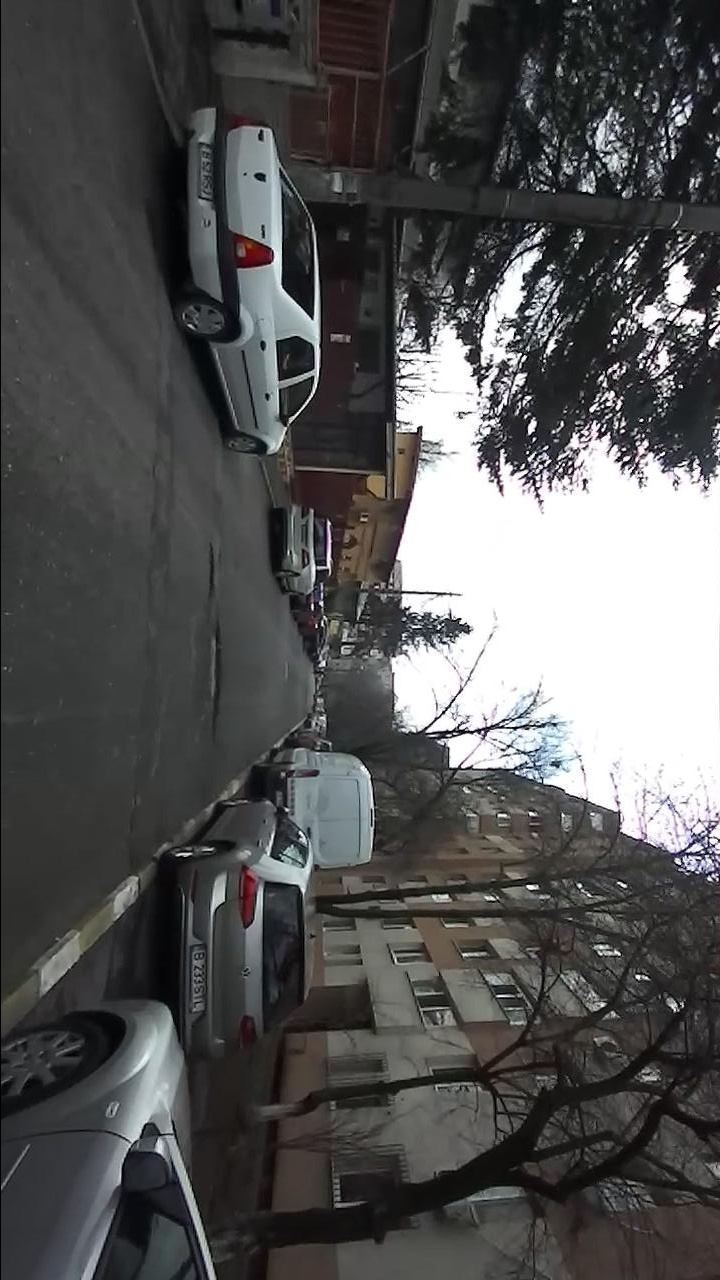pothole: (201, 617, 224, 737), (205, 541, 217, 605)
